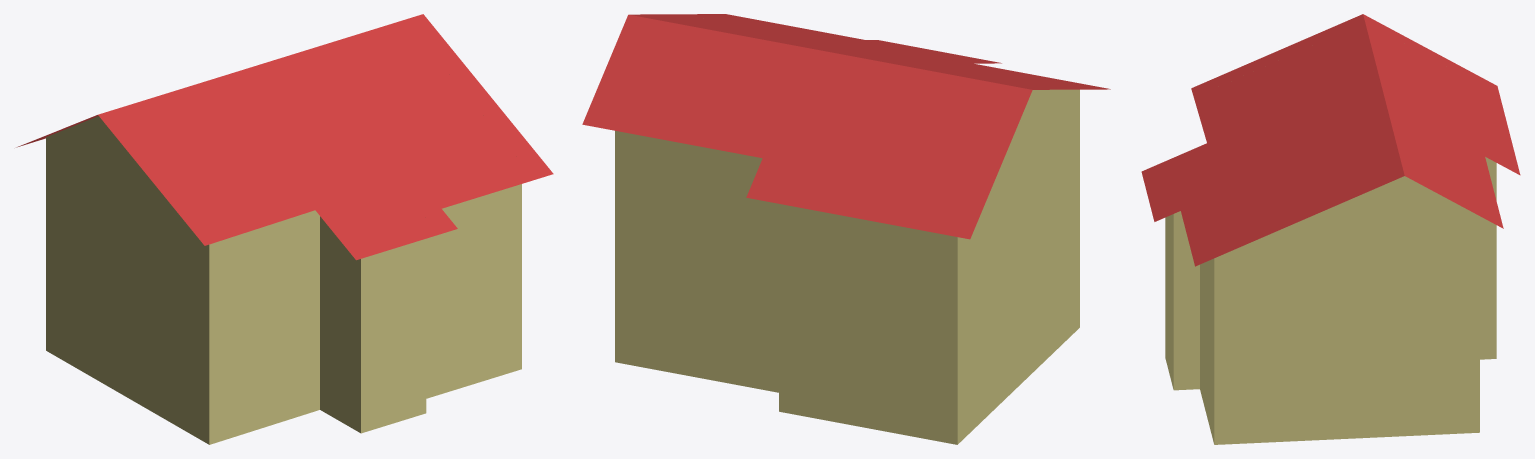
3 views of the same model, side by side, from view 1: azimuth 30°, elevation 25°; view 2: azimuth 150°, elevation 25°; view 3: azimuth 270°, elevation 25° (orthographic). The views are drawn at different scales.
Bounding box in the file's own units: 14.57 × 13.13 × 10.3.
